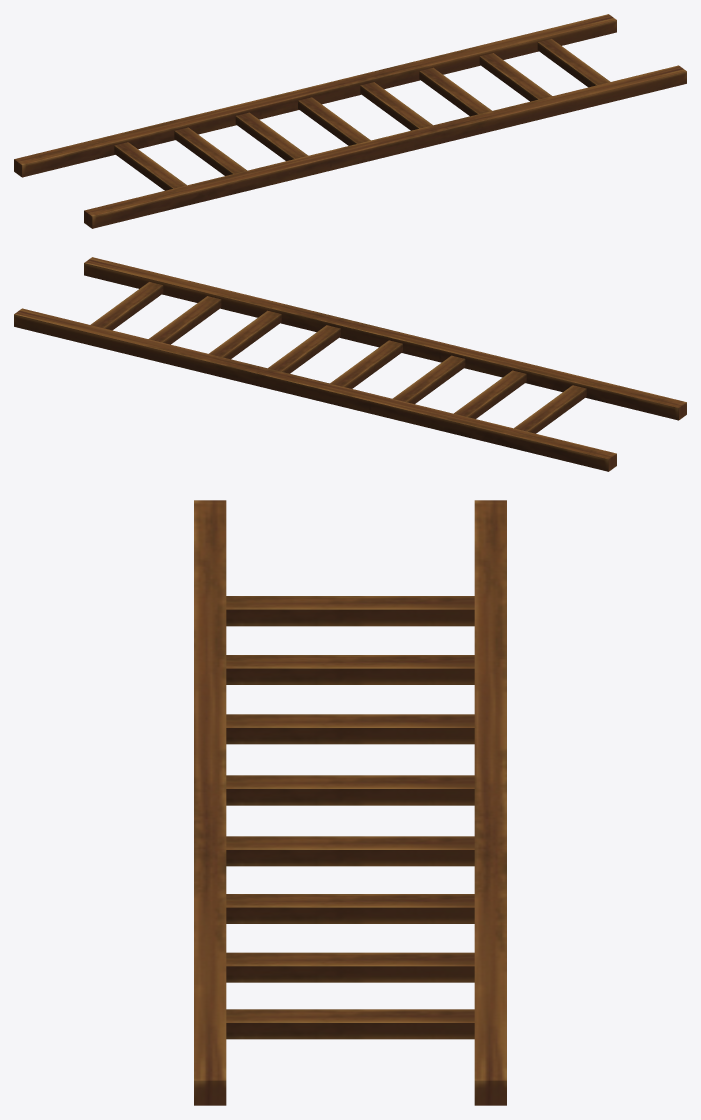
The model's file is Stage_01_01_TiZi02.FBX.
3 renders of one model, top to bottom at view 1: azimuth 30°, elevation 25°; view 2: azimuth 150°, elevation 25°; view 3: azimuth 270°, elevation 25°, orthographic. The views are drawn at different scales.
Parts seen in each view (by area): view 1: Stage_01_01_TiZi02; view 2: Stage_01_01_TiZi02; view 3: Stage_01_01_TiZi02.
Part boxes in pixels (x1,y1,x2,y2): Stage_01_01_TiZi02: (14, 14, 686, 228); Stage_01_01_TiZi02: (14, 257, 686, 471); Stage_01_01_TiZi02: (194, 500, 506, 1105).
Size of the model in its own units: 703 by 14.05 by 160.
